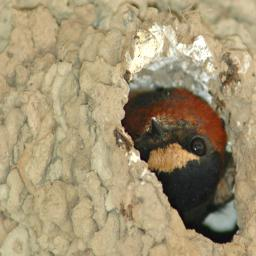Swallow: (121, 86, 229, 226)
